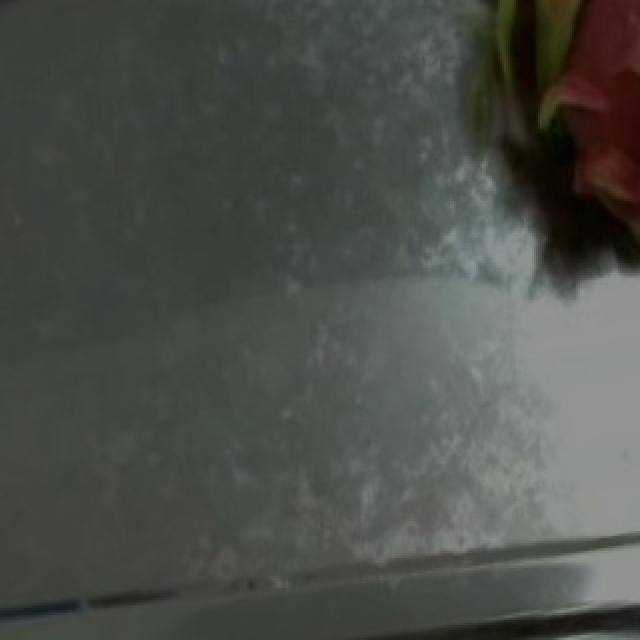fruit: (378, 0, 640, 313)
